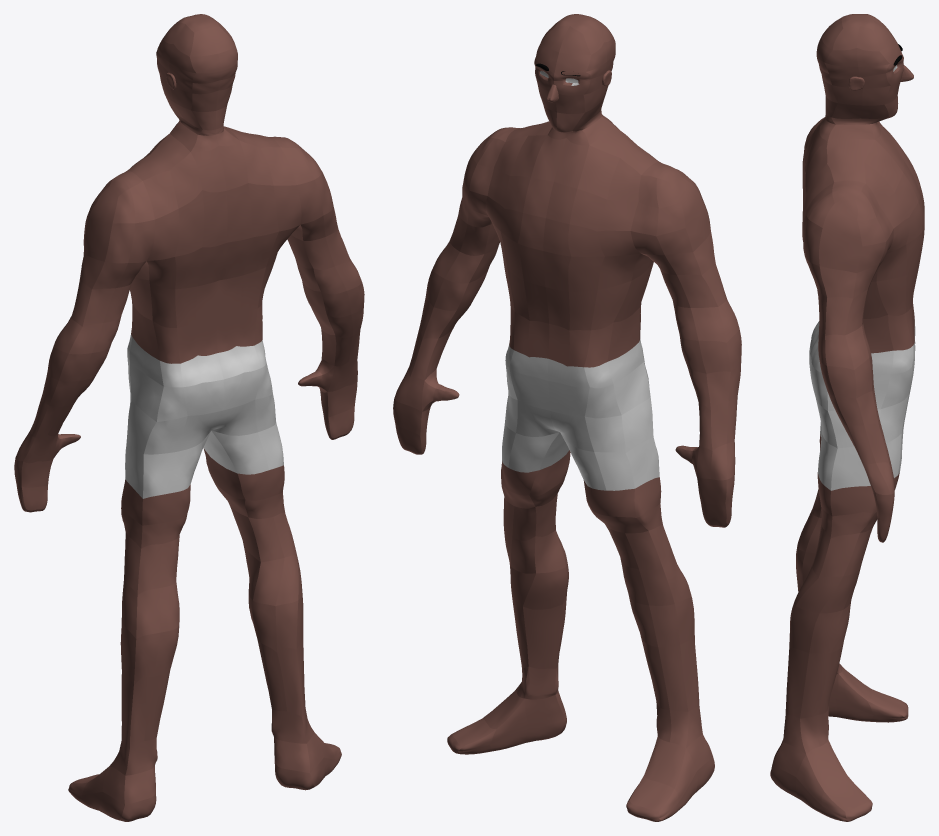
File: man_sub2.obj
3 renders of one model, left to right at view 1: azimuth 30°, elevation 25°; view 2: azimuth 150°, elevation 25°; view 3: azimuth 270°, elevation 25°, orthographic. The views are drawn at different scales.
Visible parts, largest first — view 1: Cube_Cube.001; view 2: Cube_Cube.001; view 3: Cube_Cube.001.
Part boxes in pixels (x1,y1,x2,y2): Cube_Cube.001: [14, 14, 364, 821]; Cube_Cube.001: [393, 14, 741, 821]; Cube_Cube.001: [770, 14, 924, 821].
Size of the model in its own units: 2.61 by 5.63 by 1.06.
